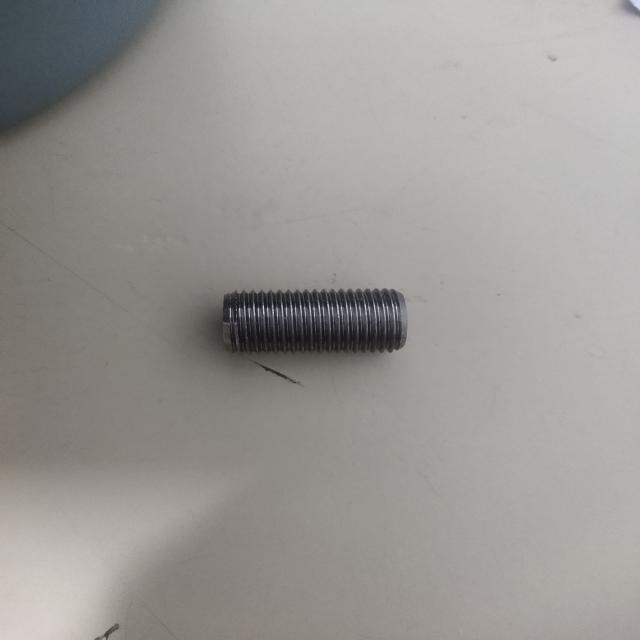Normal: (221, 288, 411, 356)
